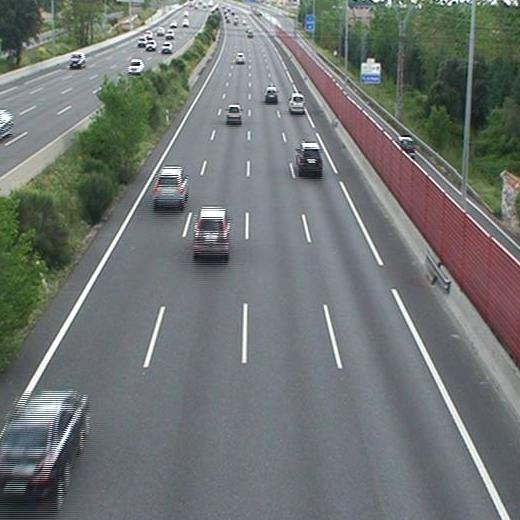car: (1, 393, 86, 502), (194, 208, 228, 252), (153, 168, 188, 204), (297, 144, 321, 174), (289, 95, 305, 114), (226, 106, 243, 122), (265, 87, 278, 101), (234, 53, 244, 62)
